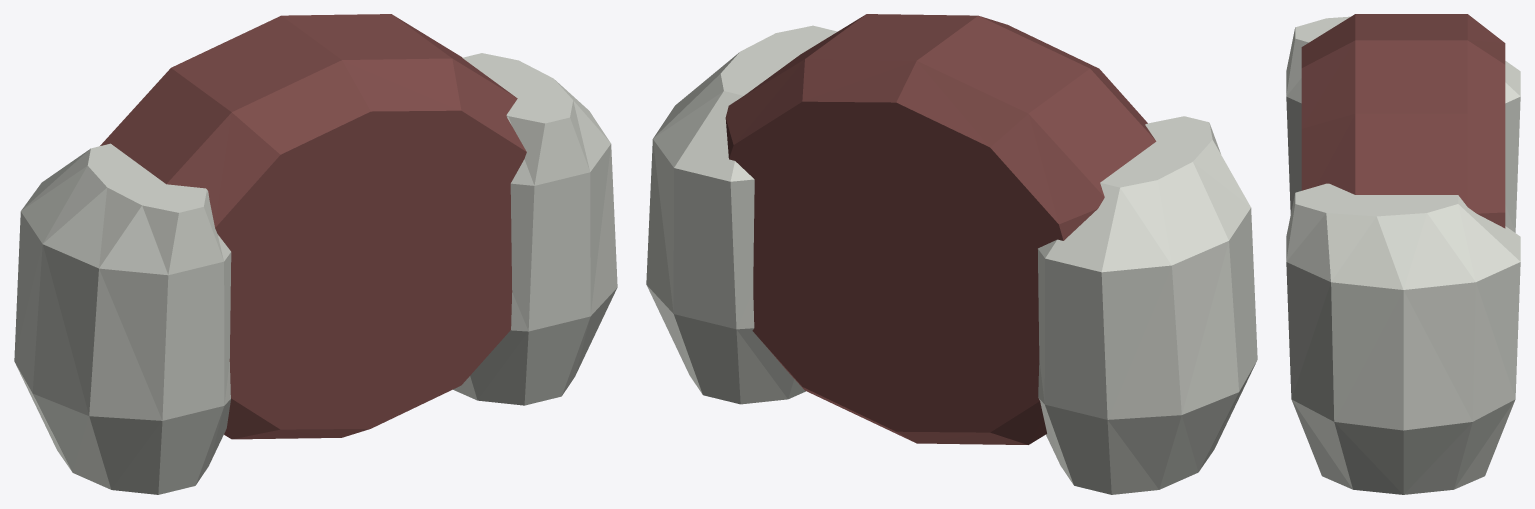
The model's file is warqueen_segment_4.obj.
3 renders of one model, left to right at view 1: azimuth 30°, elevation 25°; view 2: azimuth 150°, elevation 25°; view 3: azimuth 270°, elevation 25°, orthographic. The views are drawn at different scales.
Visible parts, largest first — view 1: warqueen_segment_4; view 2: warqueen_segment_4; view 3: warqueen_segment_4.
Boxes of the visible parts, box(x1,y1,x2,y2) form: warqueen_segment_4: box(14, 14, 617, 494); warqueen_segment_4: box(646, 14, 1257, 494); warqueen_segment_4: box(1286, 14, 1520, 494).
Size of the model in its own units: 1.13 by 0.72 by 0.4375.
